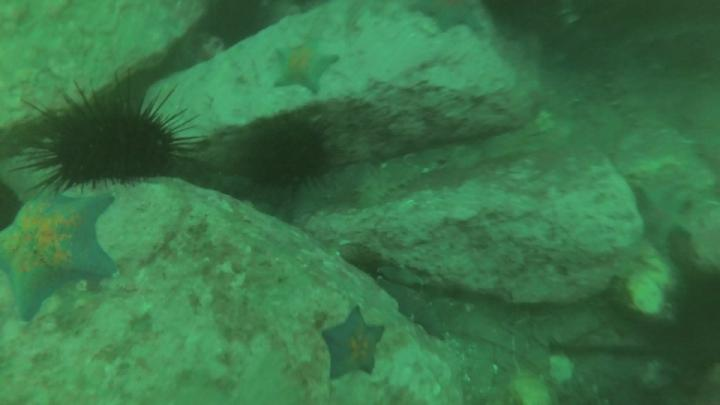echinus: (16, 75, 192, 192), (242, 114, 338, 197), (669, 261, 720, 388), (202, 1, 267, 46)
holothurian: (354, 162, 421, 210)
starfish: (1, 190, 129, 324), (375, 272, 450, 346), (321, 308, 386, 384), (267, 42, 341, 94)
